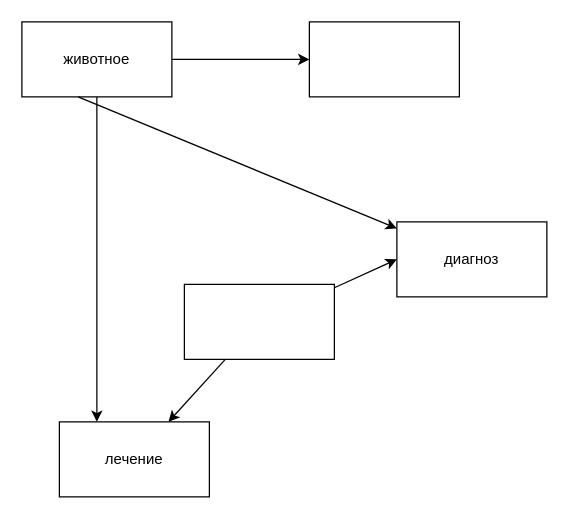
This 569x519 diagram has some shape labels left out. Each missing label, with the centre of its shape:
"врач" belongs at (x=258, y=321).
"хозяин животного" belongs at (x=383, y=59).
